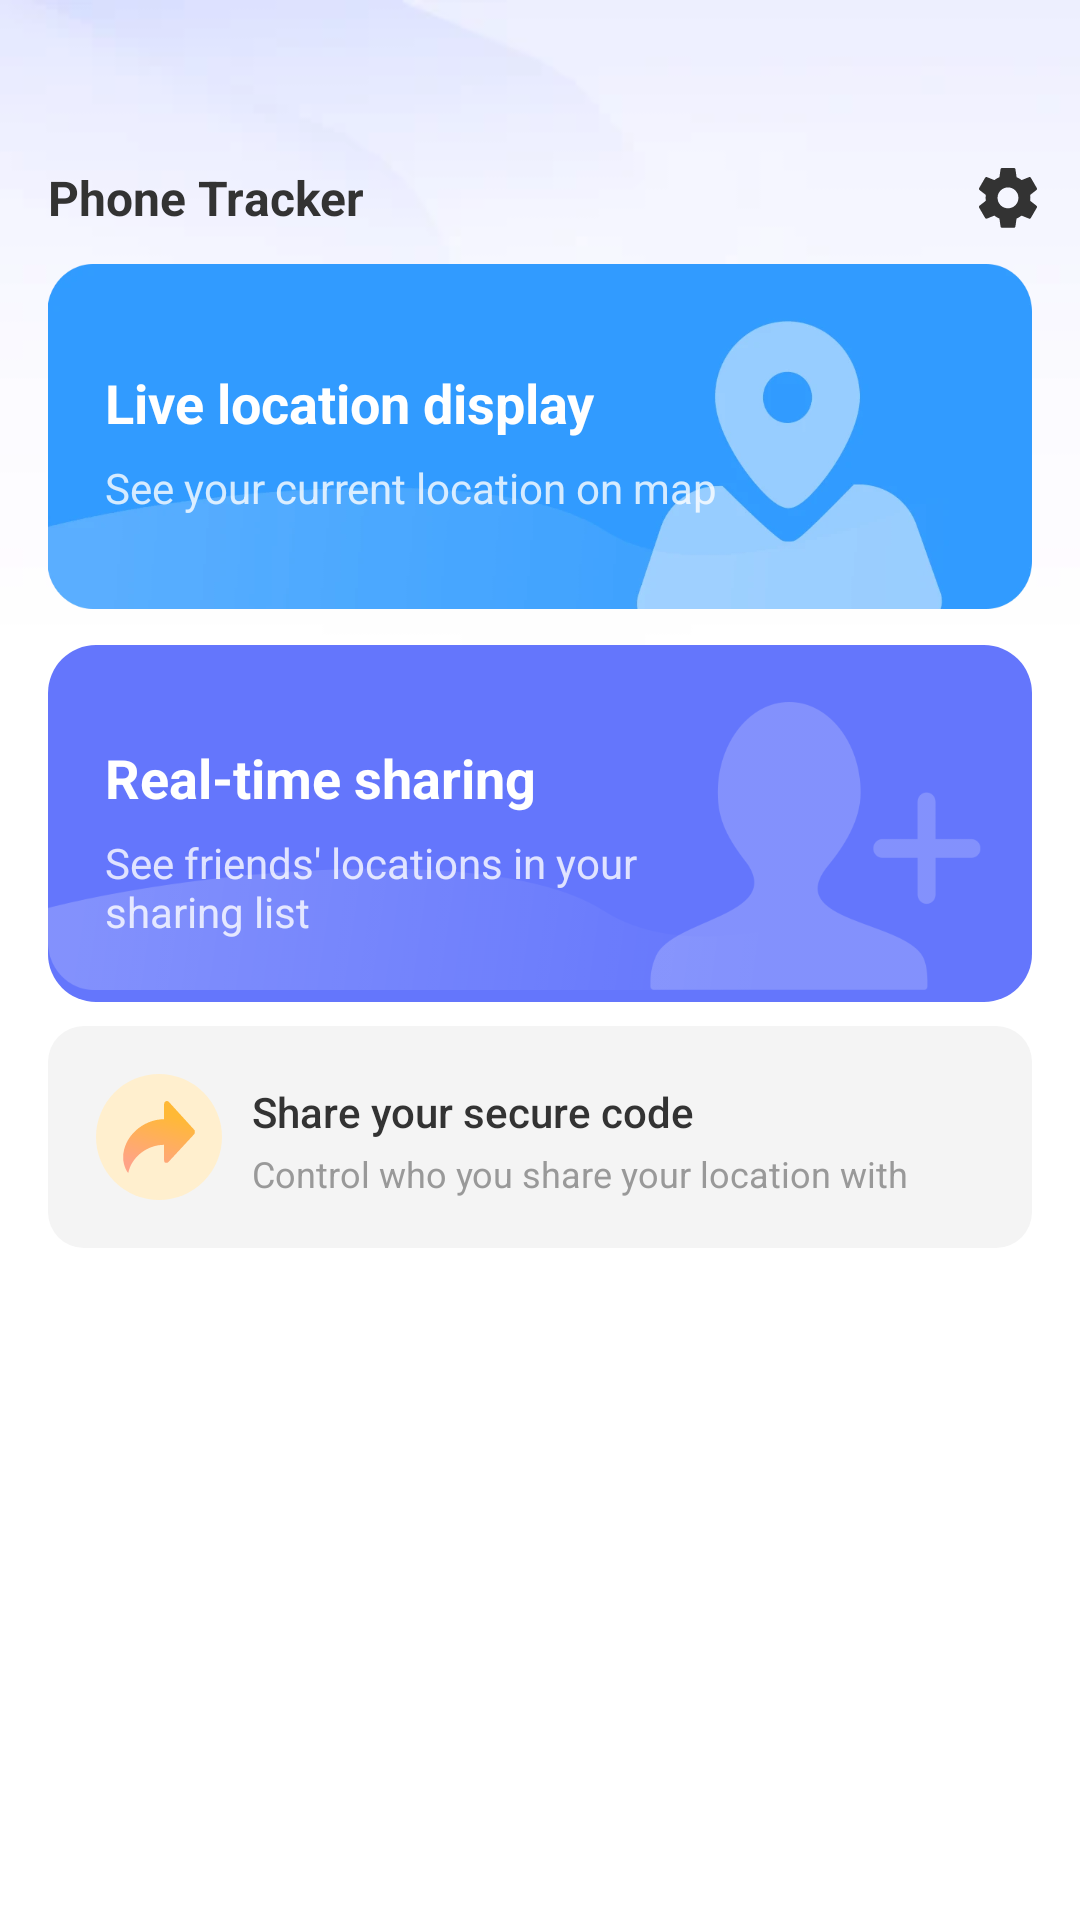

Named icons in this screenshot (1080px×1920px) and their bounding boxes, detection(x1, y1, x2, y2):
figma share: detection(96, 1074, 222, 1200)
